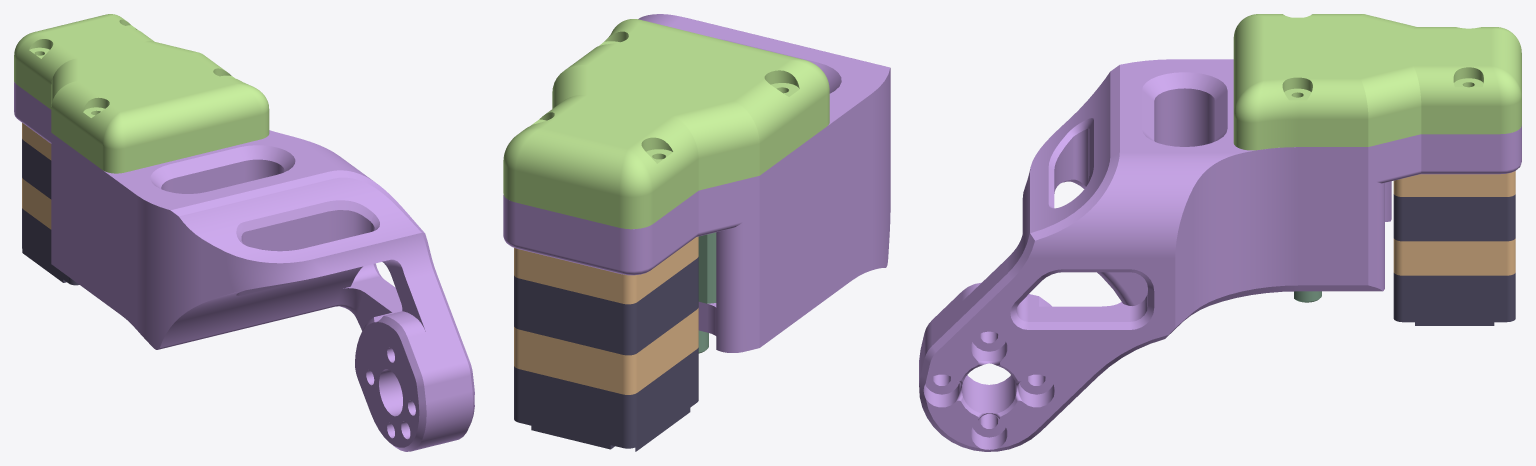
The model's file is Joint_3.001.dae.
3 renders of one model, left to right at view 1: azimuth 30°, elevation 25°; view 2: azimuth 150°, elevation 25°; view 3: azimuth 270°, elevation 25°, orthographic. The views are drawn at different scales.
Visible parts, largest first — view 1: Joint_3.000; view 2: Joint_3.000; view 3: Joint_3.000.
Part boxes in pixels (left/top/right/bottom): Joint_3.000: left=14, top=14, right=474, bottom=451; Joint_3.000: left=503, top=14, right=890, bottom=451; Joint_3.000: left=919, top=14, right=1521, bottom=451.
Bounding box in the file's own units: 0.0491 × 0.0987 × 0.0585.
